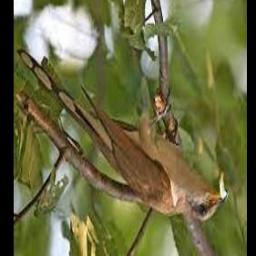Cuckoo: (16, 49, 229, 221)
